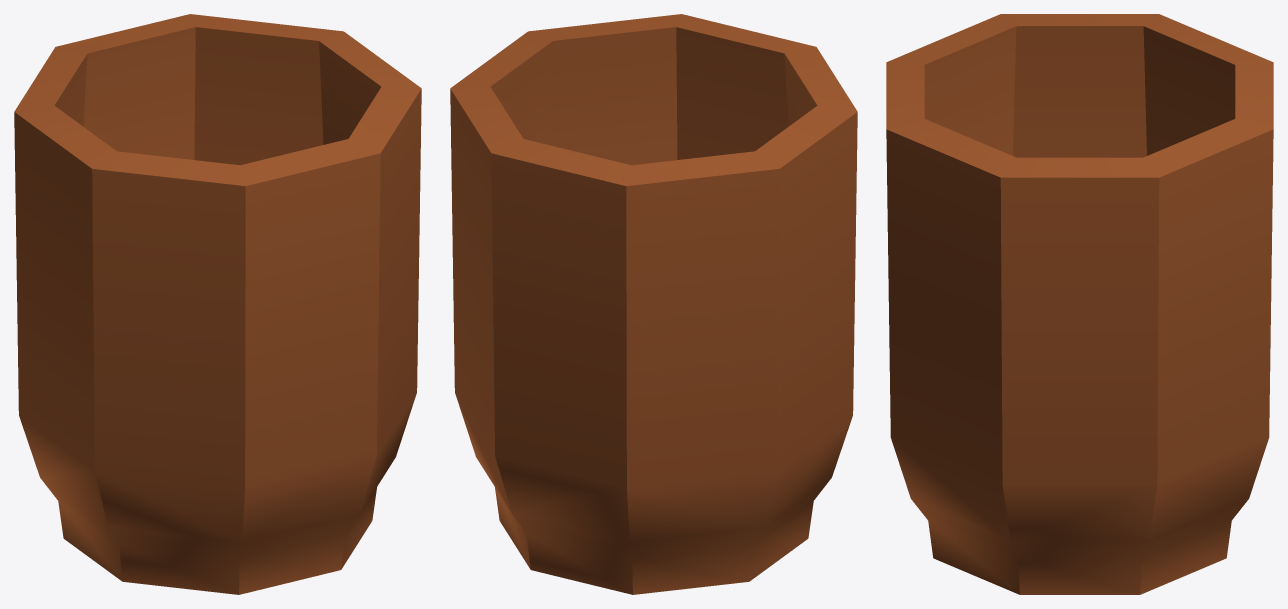
Rendered from NST_PencilVase.fbx.
The picture shows the model from 3 angles, left to right: view 1: azimuth 30°, elevation 25°; view 2: azimuth 150°, elevation 25°; view 3: azimuth 270°, elevation 25°; orthographic projection.
Visible parts, largest first — view 1: PencilVase; view 2: PencilVase; view 3: PencilVase.
Boxes of the visible parts, x1,y1,x2,y2 form: PencilVase: [14, 14, 421, 594]; PencilVase: [450, 14, 857, 594]; PencilVase: [886, 14, 1273, 594].
Size of the model in its own units: 10.21 by 12.83 by 10.21.
